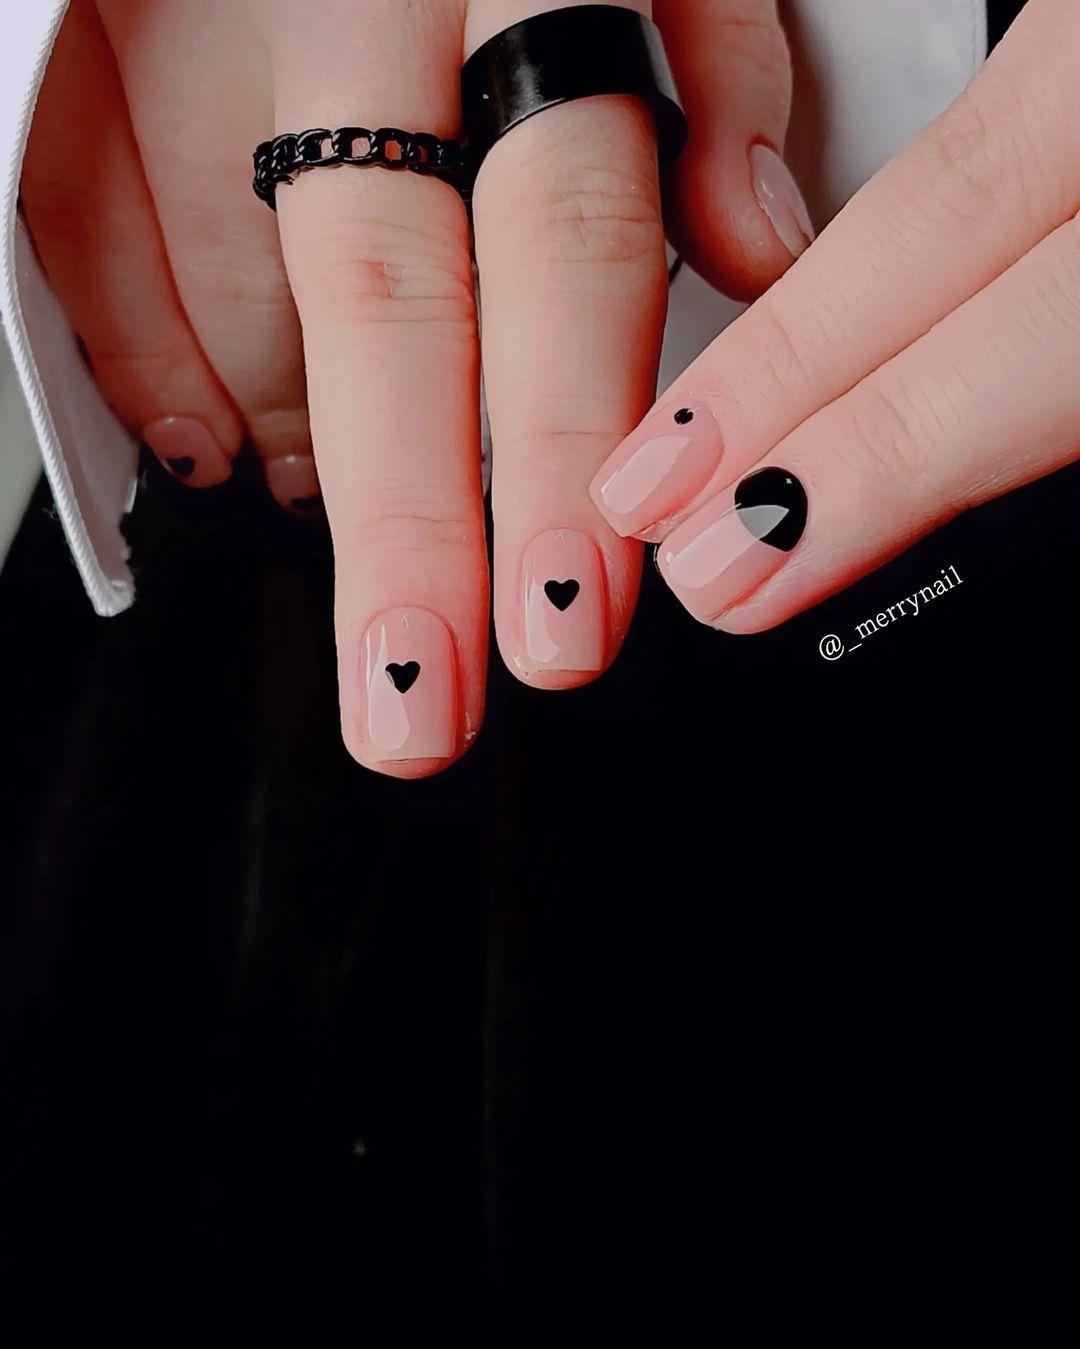nail: (654, 463, 808, 625), (346, 601, 468, 777), (587, 396, 724, 543), (510, 525, 612, 689), (746, 136, 816, 260), (141, 412, 233, 489)
